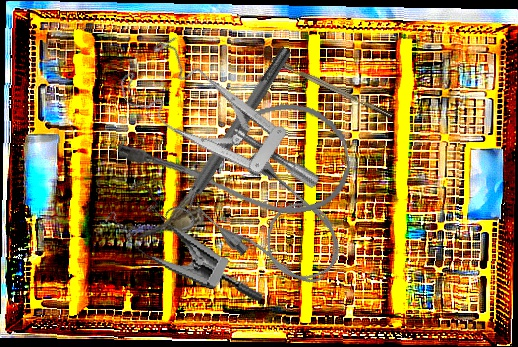Cannula: (115, 93, 358, 245), (191, 145, 358, 306)
Chopper: (251, 47, 394, 126)
Fixation Ring: (160, 41, 303, 235)
Speculum: (109, 10, 323, 248), (93, 175, 285, 304)
